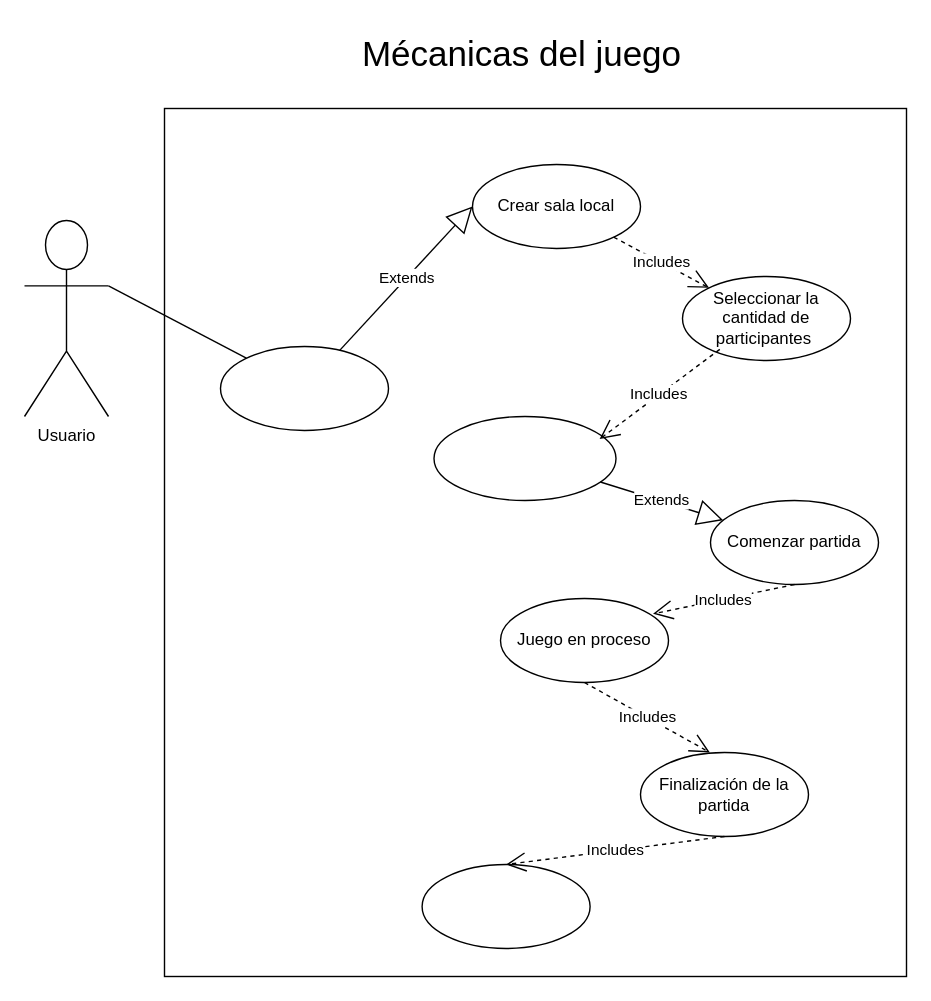
This 931x1001 diagram has some shape labels left out. Here are the shapes that lost their labels. From the top down, the centre of each, then its label:
At pixel 303 387: "Interfaz de usuario".
At pixel 524 457: "Ingresar nombre de los participantes".
At pixel 505 905: "Realización de la tabla ranking".
